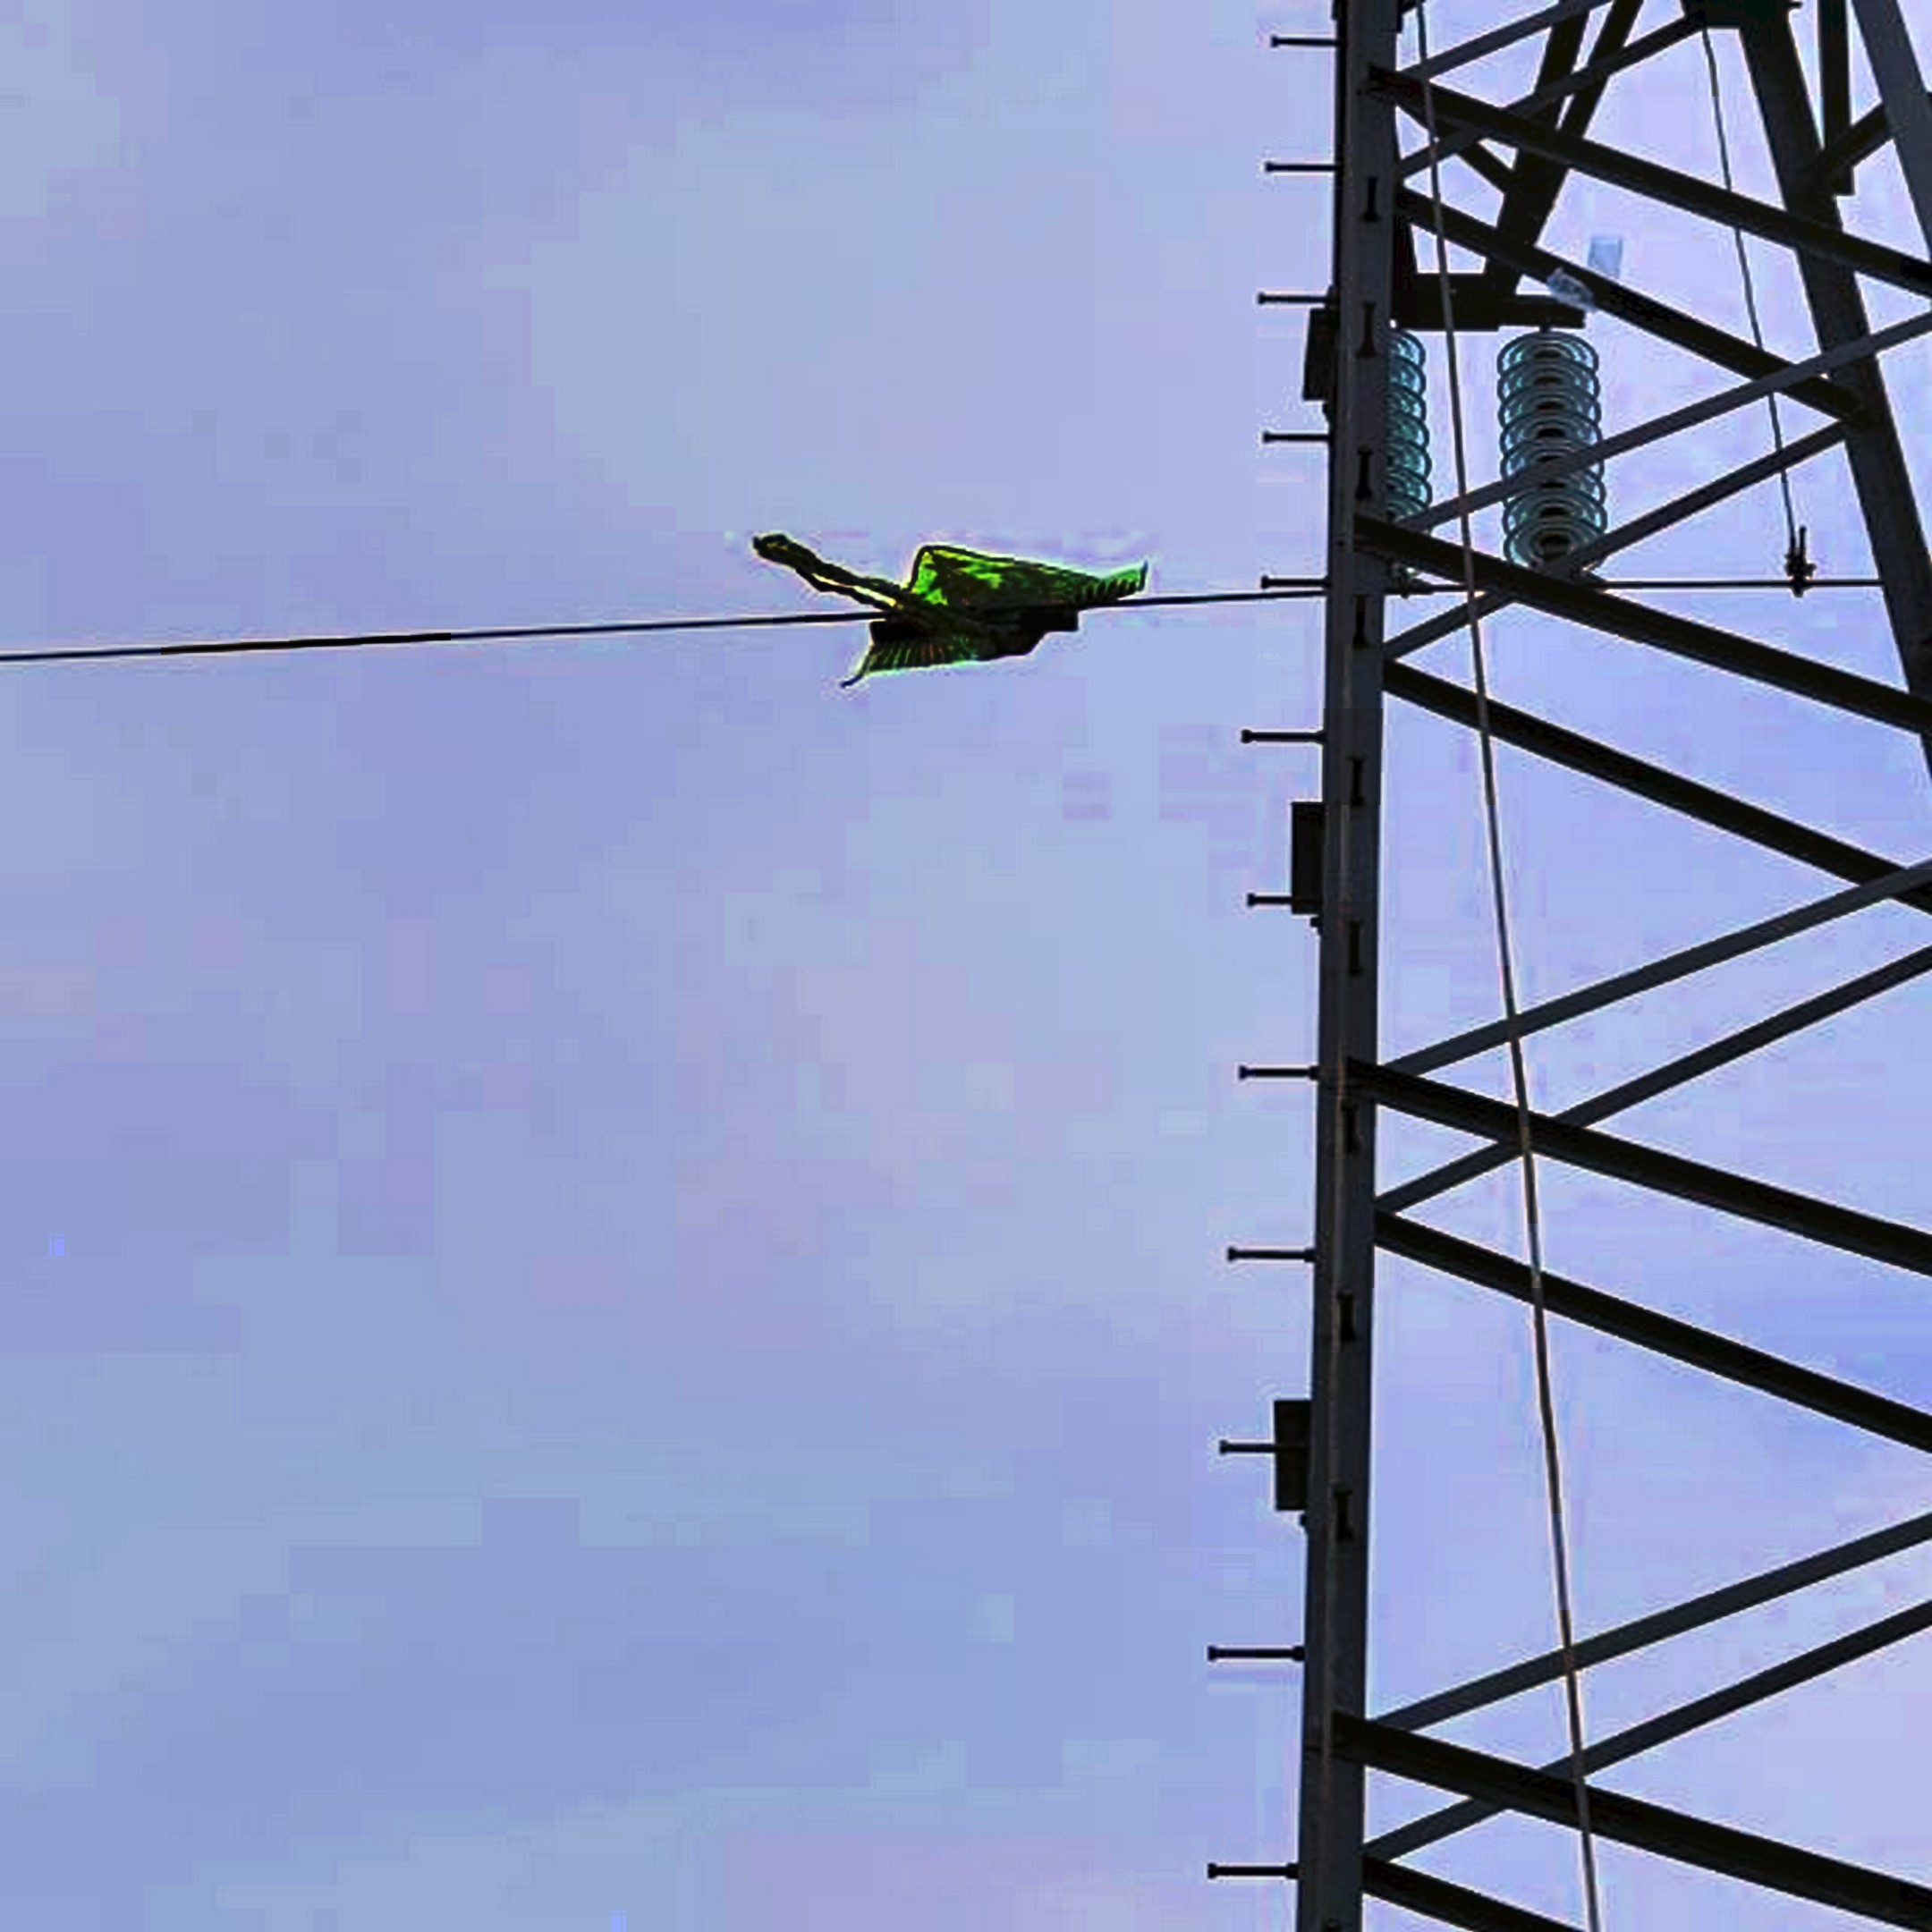wire foreign body: (736, 469, 1191, 736)
